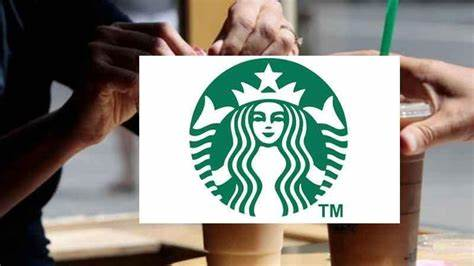starbucks Originale: (184, 54, 359, 223)
